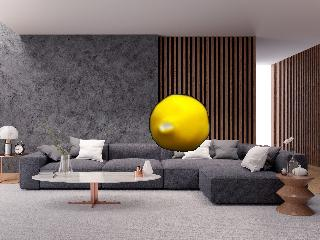lemon: (151, 94, 210, 151)
